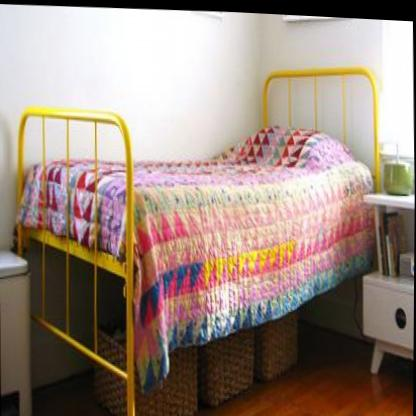Bed: (12, 44, 385, 416)
